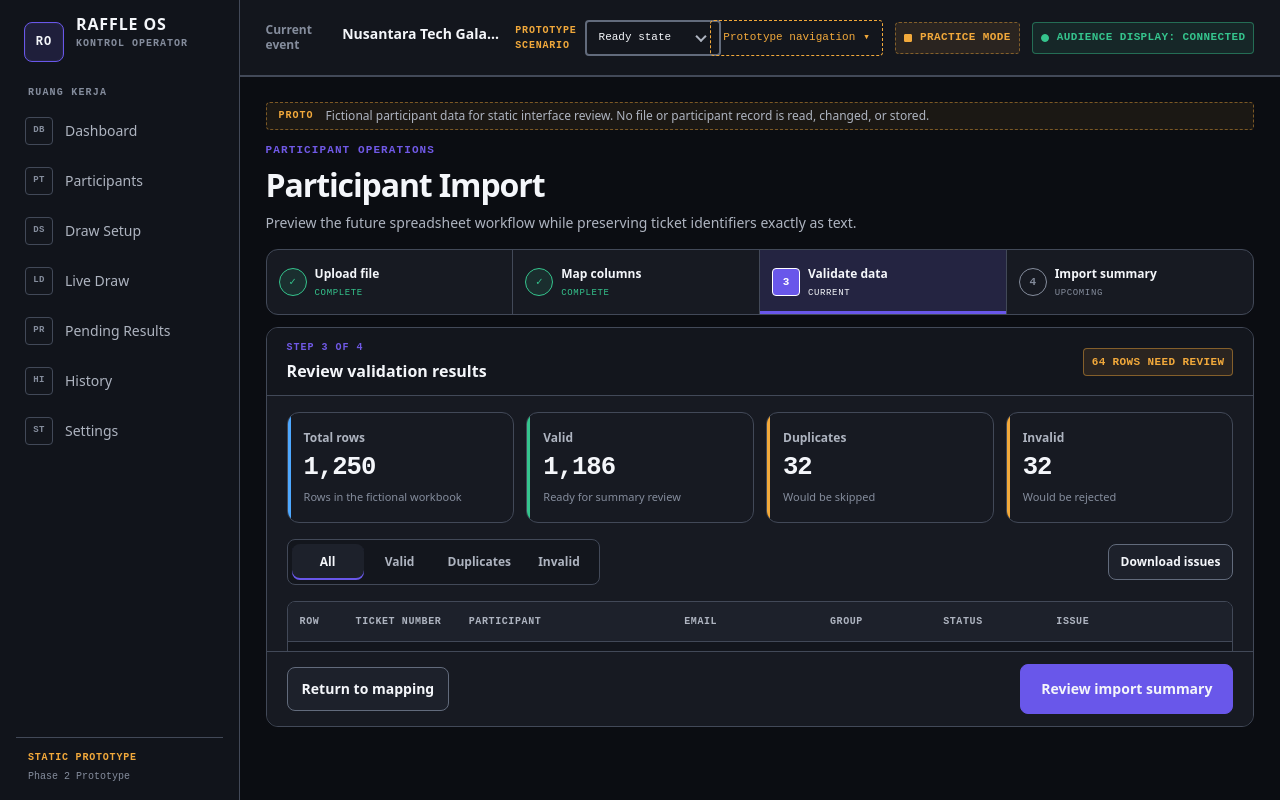
Test: Participant Import static prototype › renders validation totals, optional-name guidance, and an inert download notice
Expected: the text "1,250" is shown, [304,454,375,482]
Expected: the text "1,186" is shown, [543,454,615,482]
Click the button "Download issues" at (1170, 562), box [1108,544,1233,580]
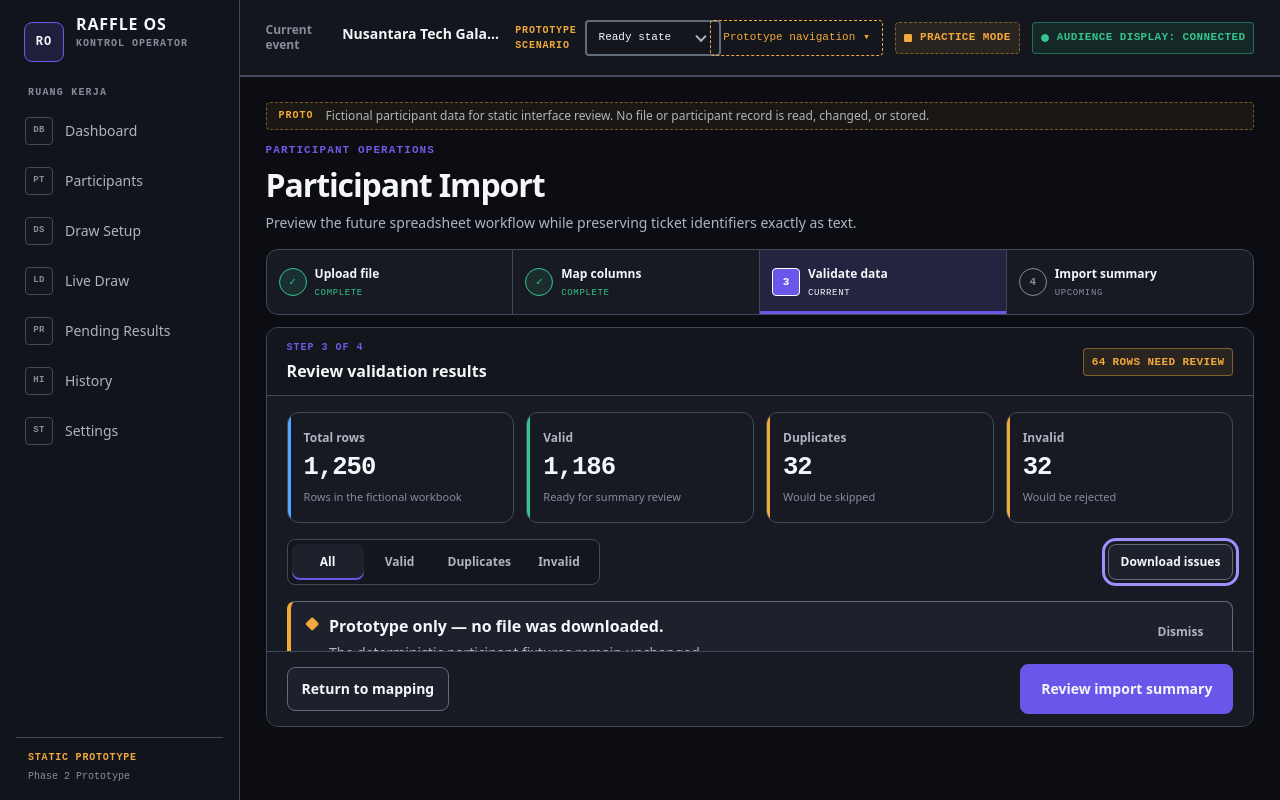
Now the message "Prototype only — no file was downloaded." is shown, box [329,615,664,637]
Click the button with aria-label "Dismiss notification" at (1180, 632), box [1144,614,1216,650]
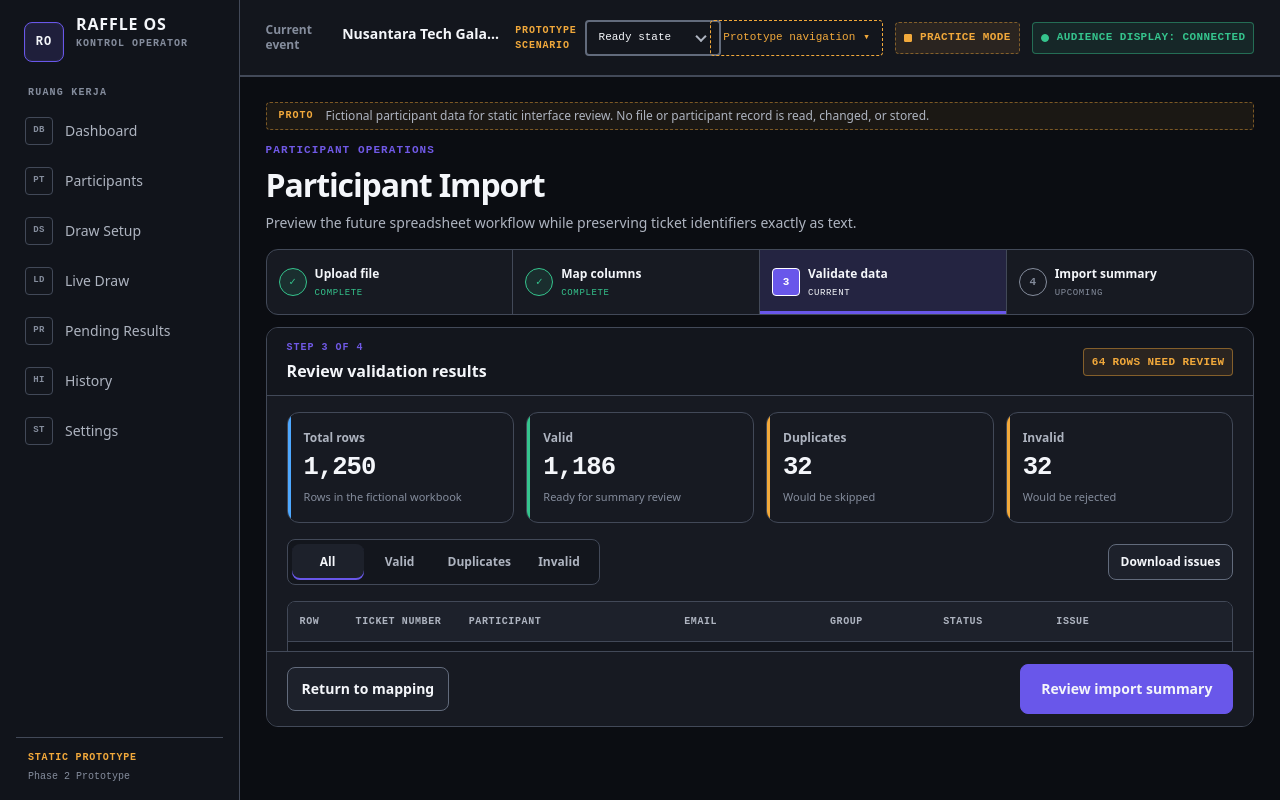
Now the text "Prototype only — no file was downloaded." is gone
